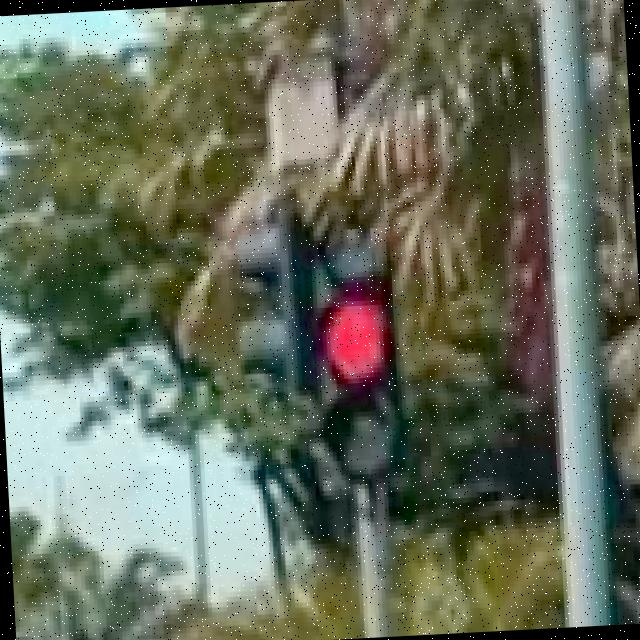Zolte swiatlo: (312, 212, 410, 491)
